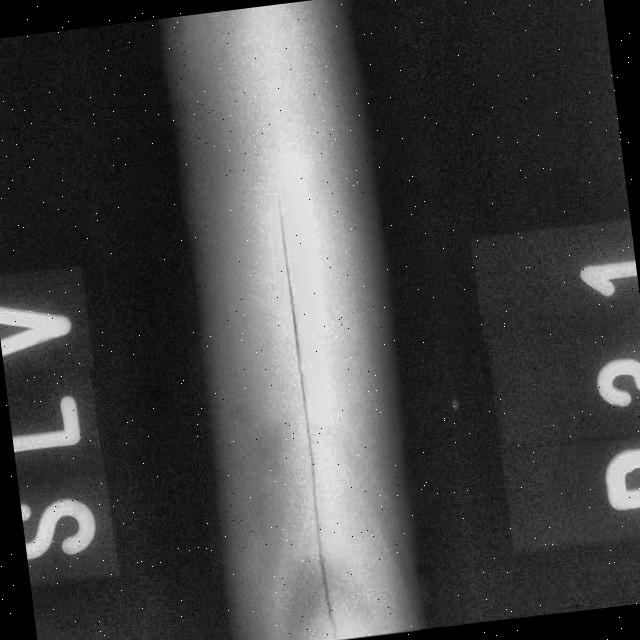LoP-LoF: (246, 177, 354, 639)
